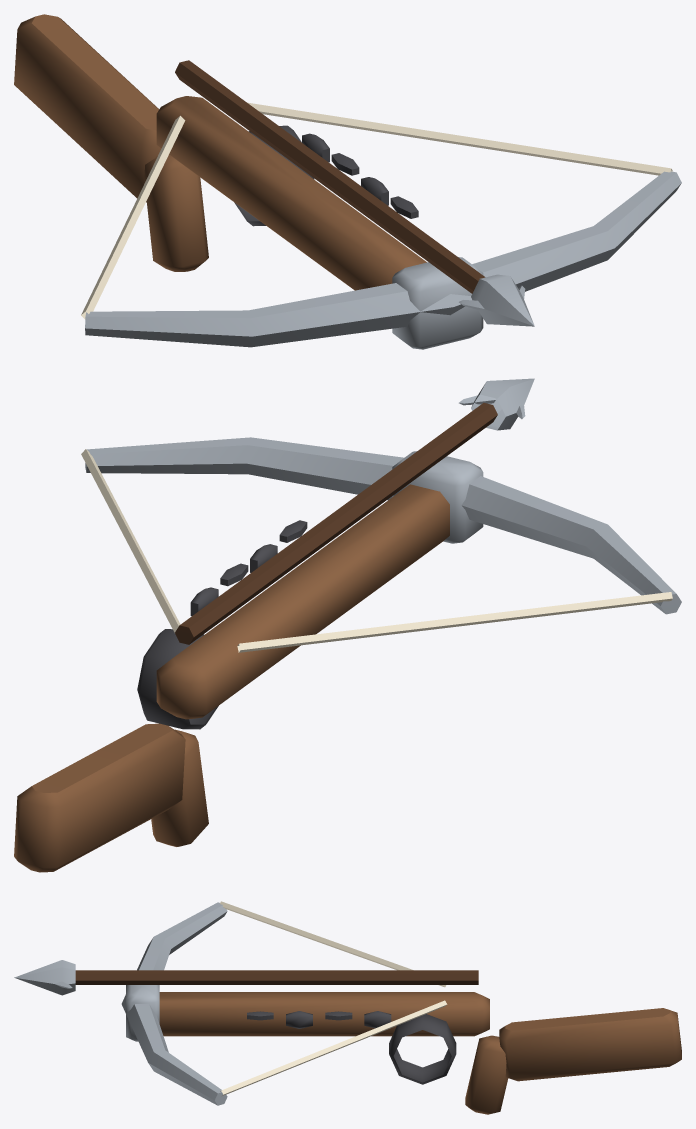
The model's file is harpoon-2.glb.
3 renders of one model, top to bottom at view 1: azimuth 30°, elevation 25°; view 2: azimuth 150°, elevation 25°; view 3: azimuth 270°, elevation 25°, orthographic. The views are drawn at different scales.
Visible parts, largest first — view 1: harpoon-2; view 2: harpoon-2; view 3: harpoon-2.
Part boxes in pixels (x1=…): harpoon-2: x1=14, y1=14, x2=681, y2=349; harpoon-2: x1=14, y1=378, x2=681, y2=872; harpoon-2: x1=14, y1=901, x2=681, y2=1114.
Size of the model in its own units: 0.4079 by 0.1463 by 0.5965.
